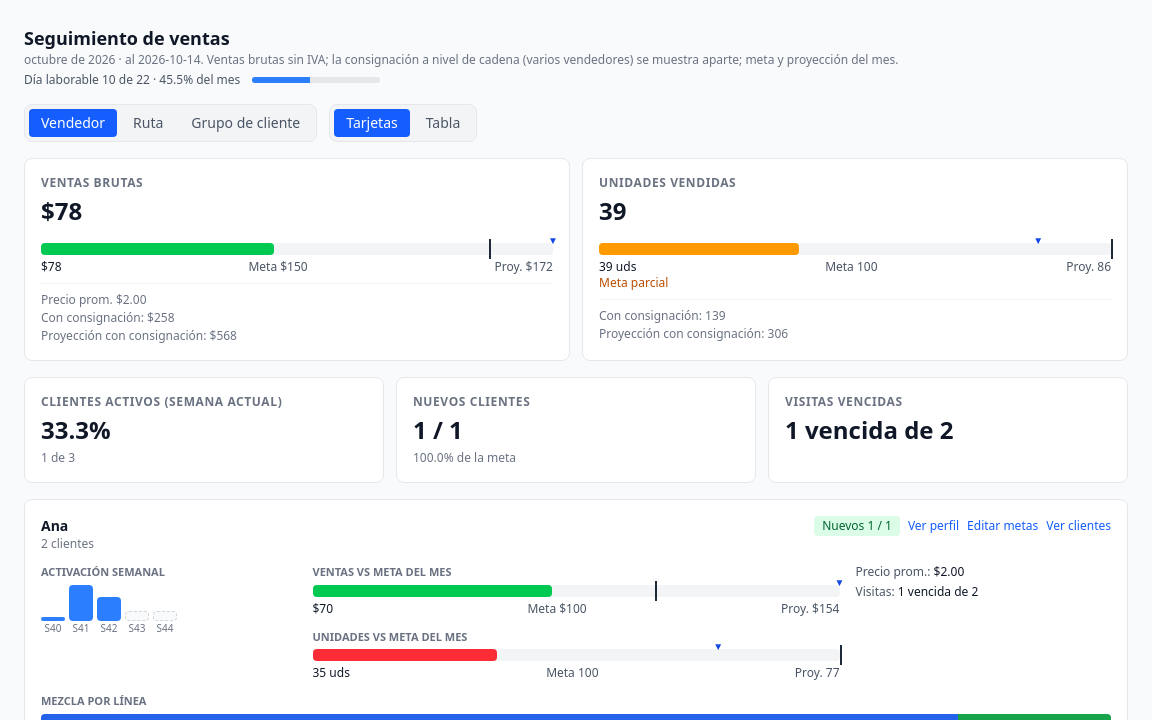
it: TabSeguimiento › route roots show no goals: sales and projection stay, the card says goals are per seller
Expected: the heading "Seguimiento de ventas" is shown, [24,26,230,50]
Click the button "Ruta". click: (148, 123)
box: [121,109,175,137]
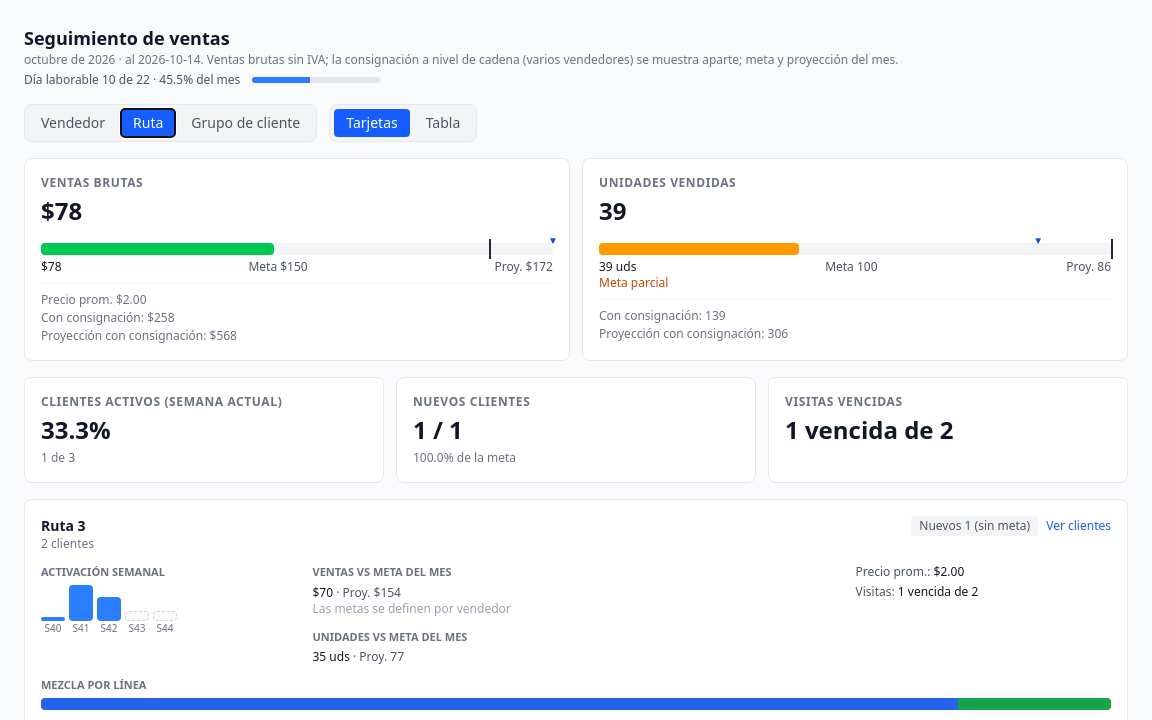
Expected: the element "Ventas brutas" is shown, [24,158,570,361]
Expected: the text "Las metas se definen por vendedor" is shown, [312,600,511,616]
